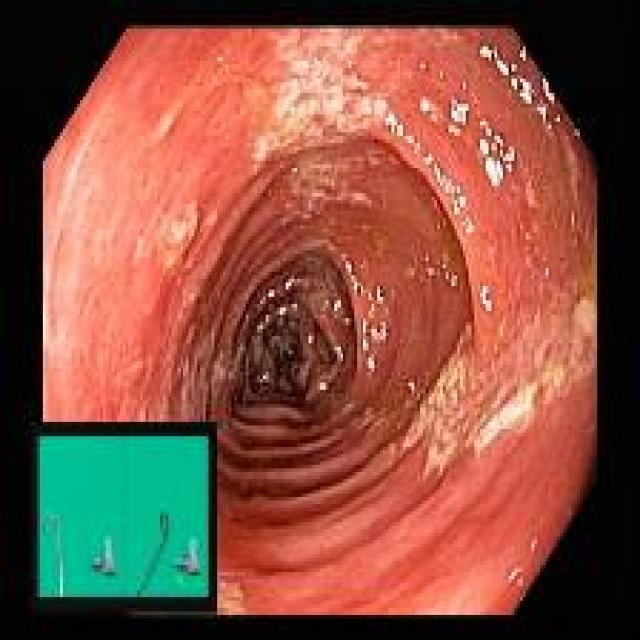ulcerative-colitis: (44, 28, 596, 614)
